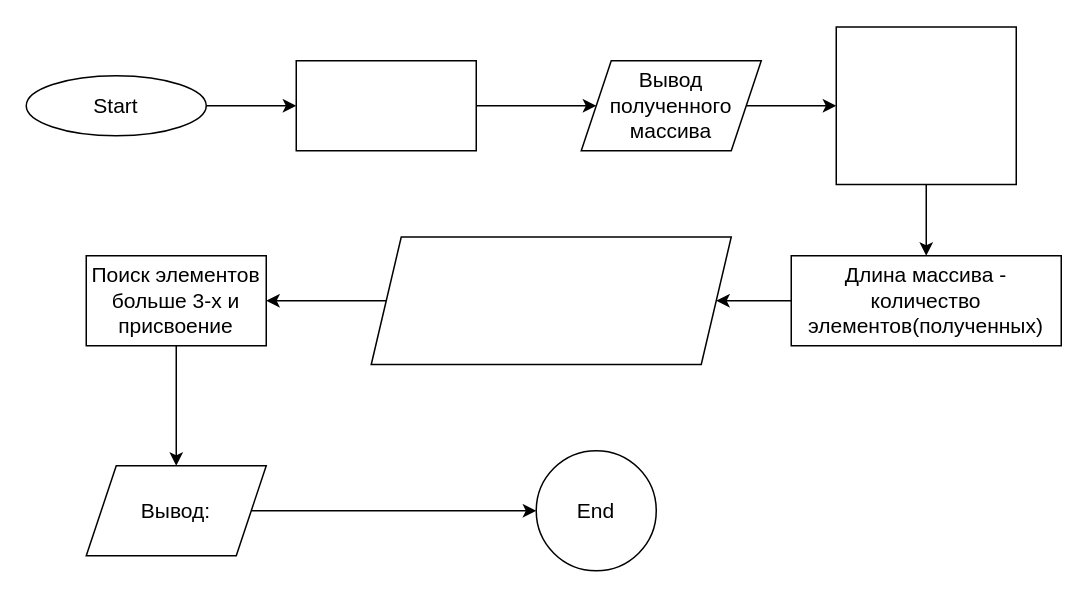
The diagram is 1088 pixels wide and 597 high, and some of its shapes have lost their labels. Here are the shapes that lost their labels. From the top down, the centre of each, then its label:
At (x=385, y=105): "Ввод: первый массив (ручной)".
At (x=925, y=105): "В массиве находим колличество элементов символы которых больше 3".
At (x=550, y=300): "Создается новый массив под длину разности".
